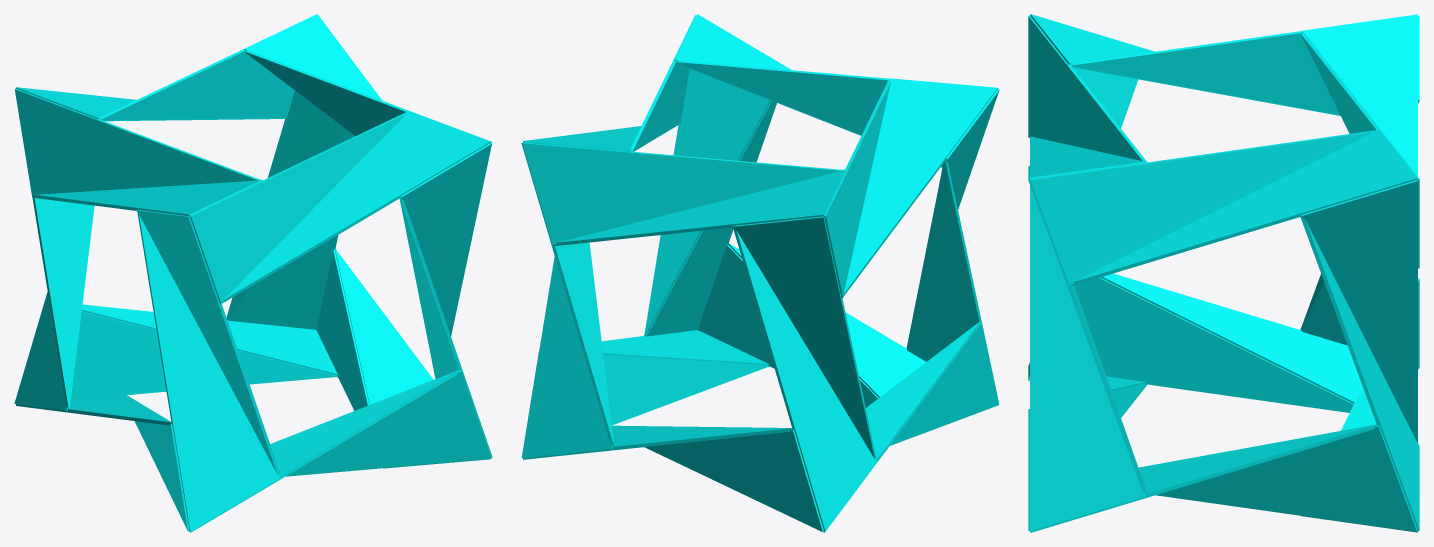
3 renders of one model, left to right at view 1: azimuth 30°, elevation 25°; view 2: azimuth 150°, elevation 25°; view 3: azimuth 270°, elevation 25°, orthographic. The views are drawn at different scales.
Visible parts, largest first — view 1: root; view 2: root; view 3: root.
Part boxes in pixels (box(x1,y1,x2,y2)): root: box(14, 14, 492, 532); root: box(521, 14, 999, 532); root: box(1028, 14, 1419, 532).
Size of the model in its own units: 1.01 by 1.01 by 1.01.
